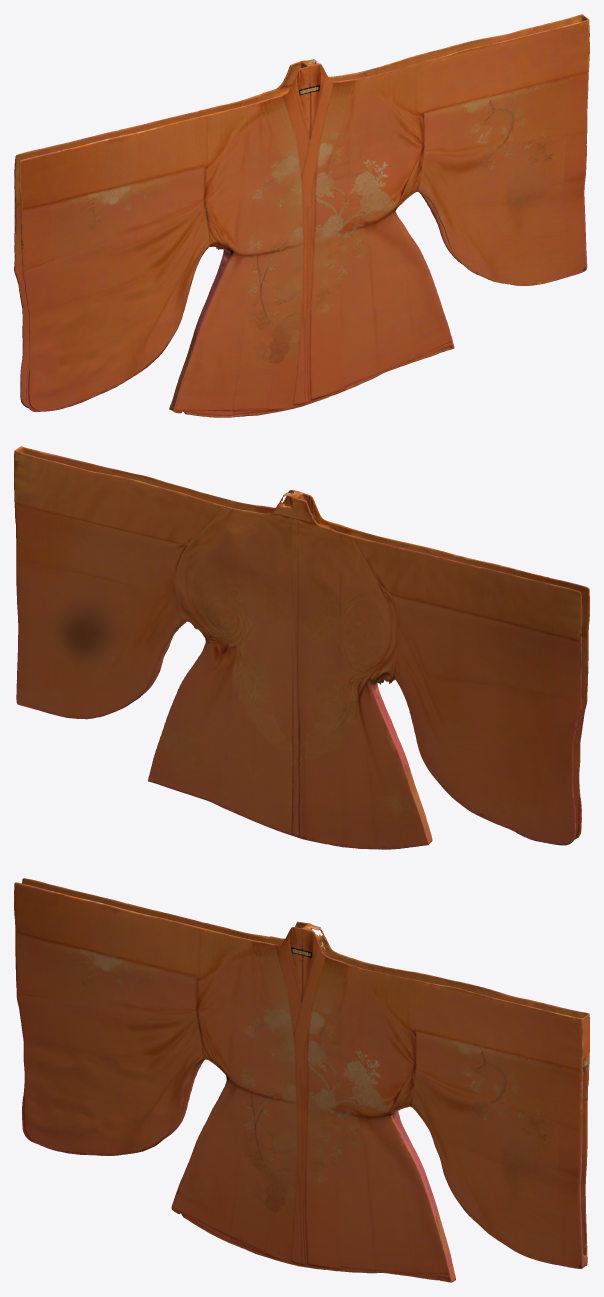
Rendered from 大衫霞帔.glb.
3 renders of one model, top to bottom at view 1: azimuth 30°, elevation 25°; view 2: azimuth 150°, elevation 25°; view 3: azimuth 330°, elevation 25°, orthographic.
Size of the model in its own units: 1.99 by 1.14 by 0.0598.
Materials: 1 (1 with a texture image).
